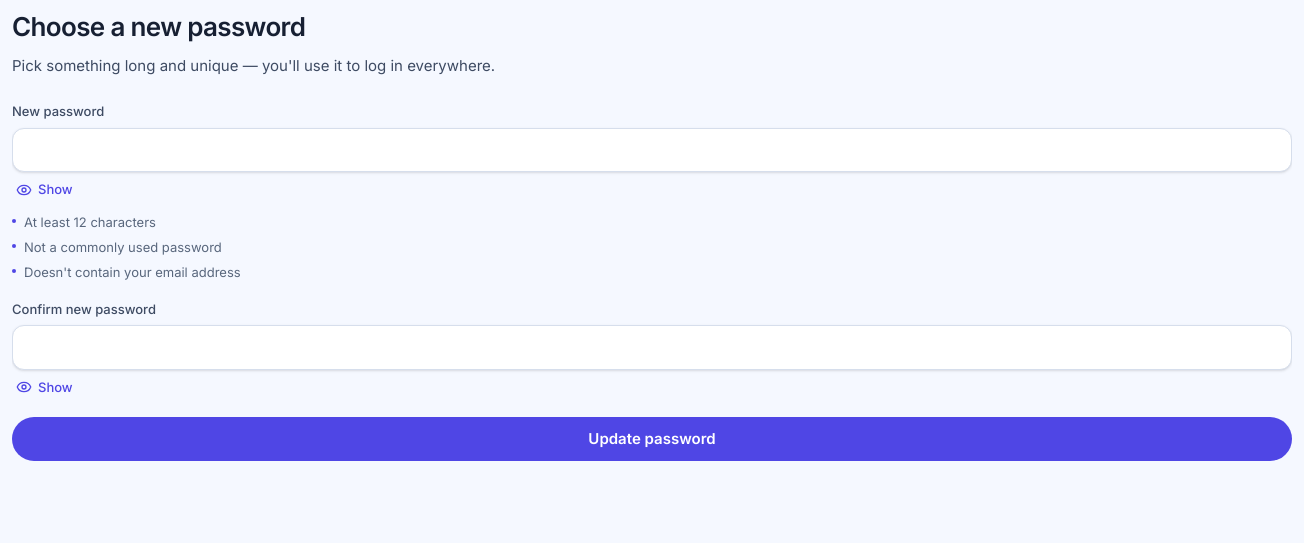
Test case: ResetPasswordForm › maps an expired link honestly
Step 1. Type "brand-new-password-1" into the password field labelled "New password" → (652, 150), box [12,128,1292,172]
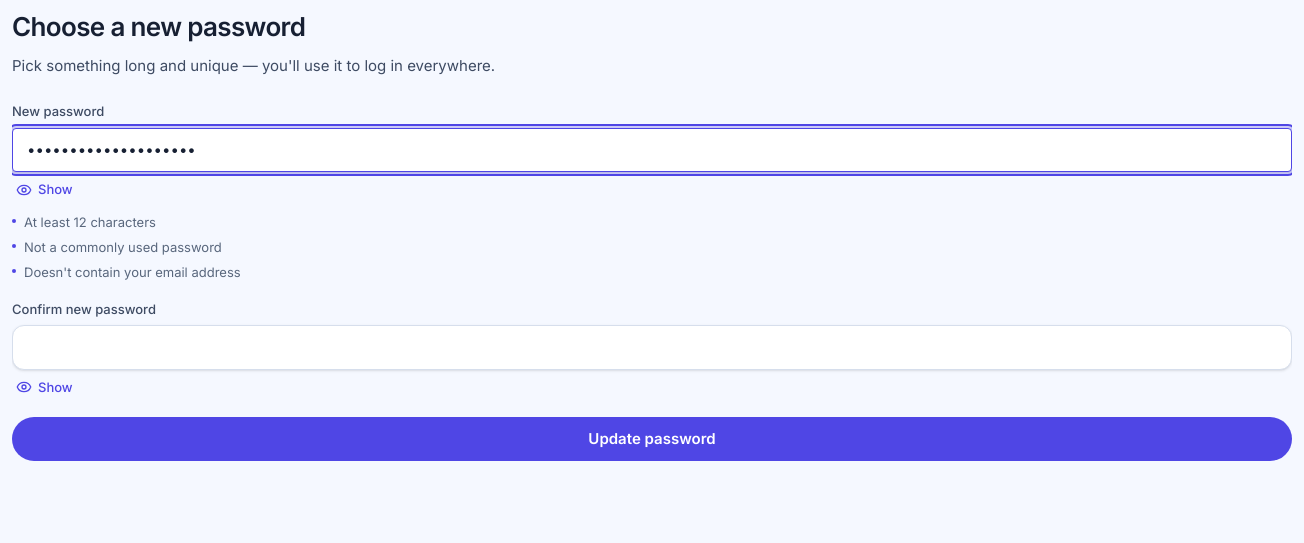
Step 2. Type "brand-new-password-1" into the password field labelled "Confirm new password" → (652, 347), box [12,325,1292,370]
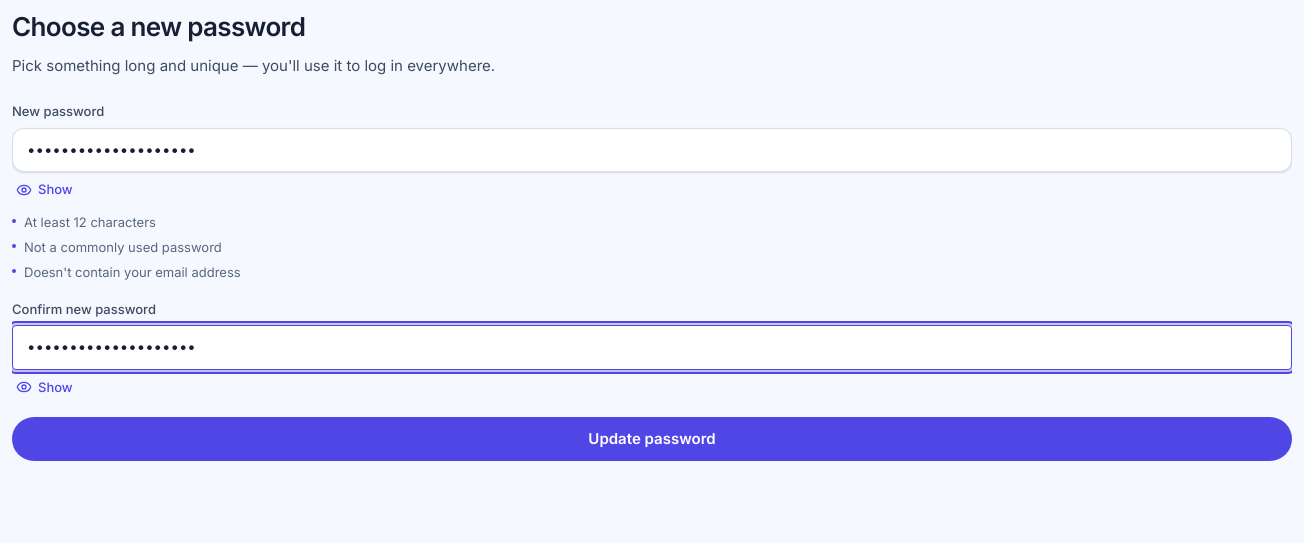
Step 3. Click the button "Update password" → click(652, 439), box [12,417,1292,461]
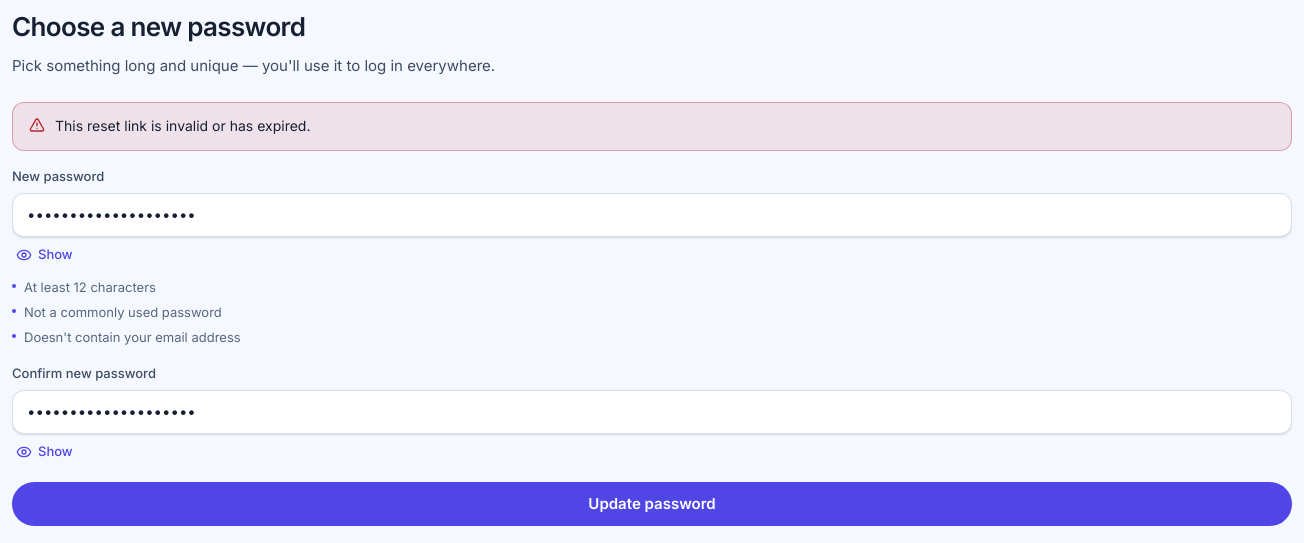
Expected: the message reads "This reset link is invalid or has expired.", [55,117,310,134]
